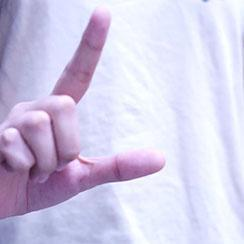L: (0, 0, 215, 217)
